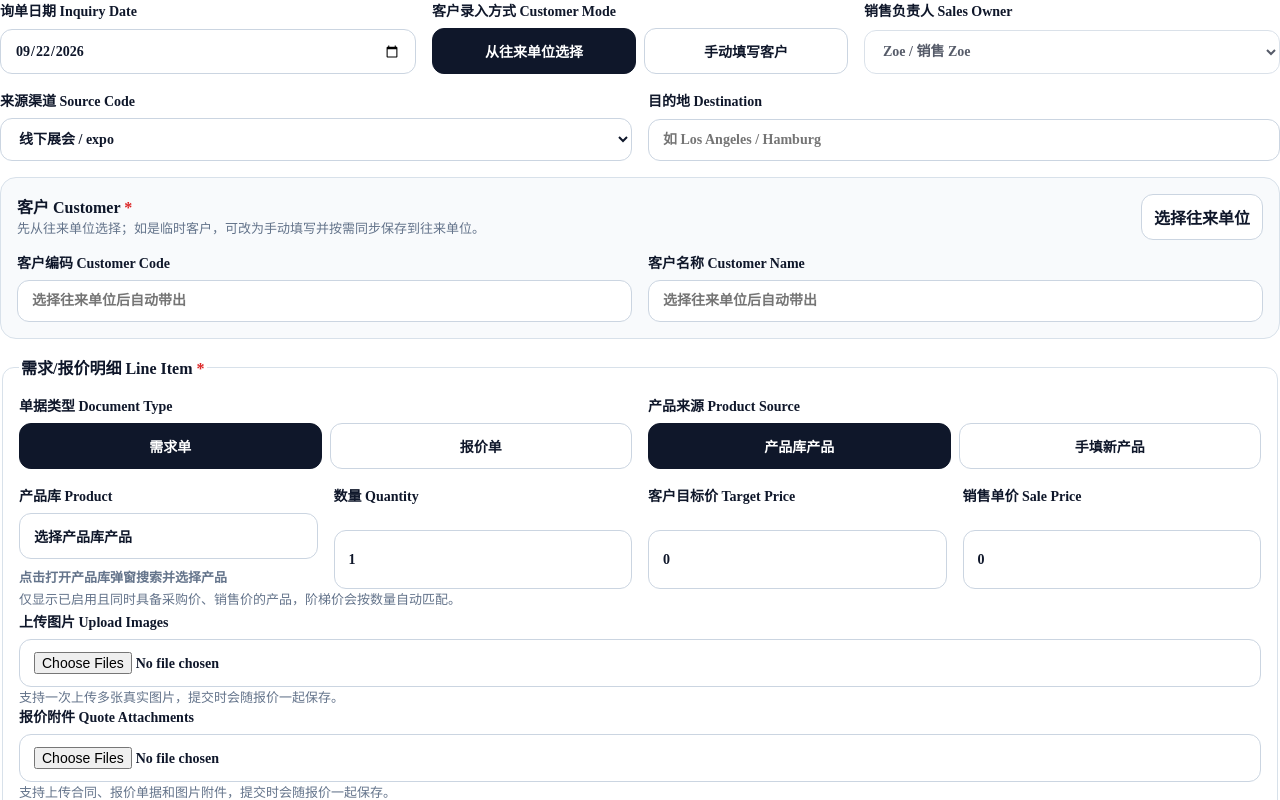
Test: formal quote create page › renders customer picker as searchable paginated dialog
This screenshot has width=1280, height=800.
Click the button "选择往来单位": click(1202, 217) [1141,194,1263,240]
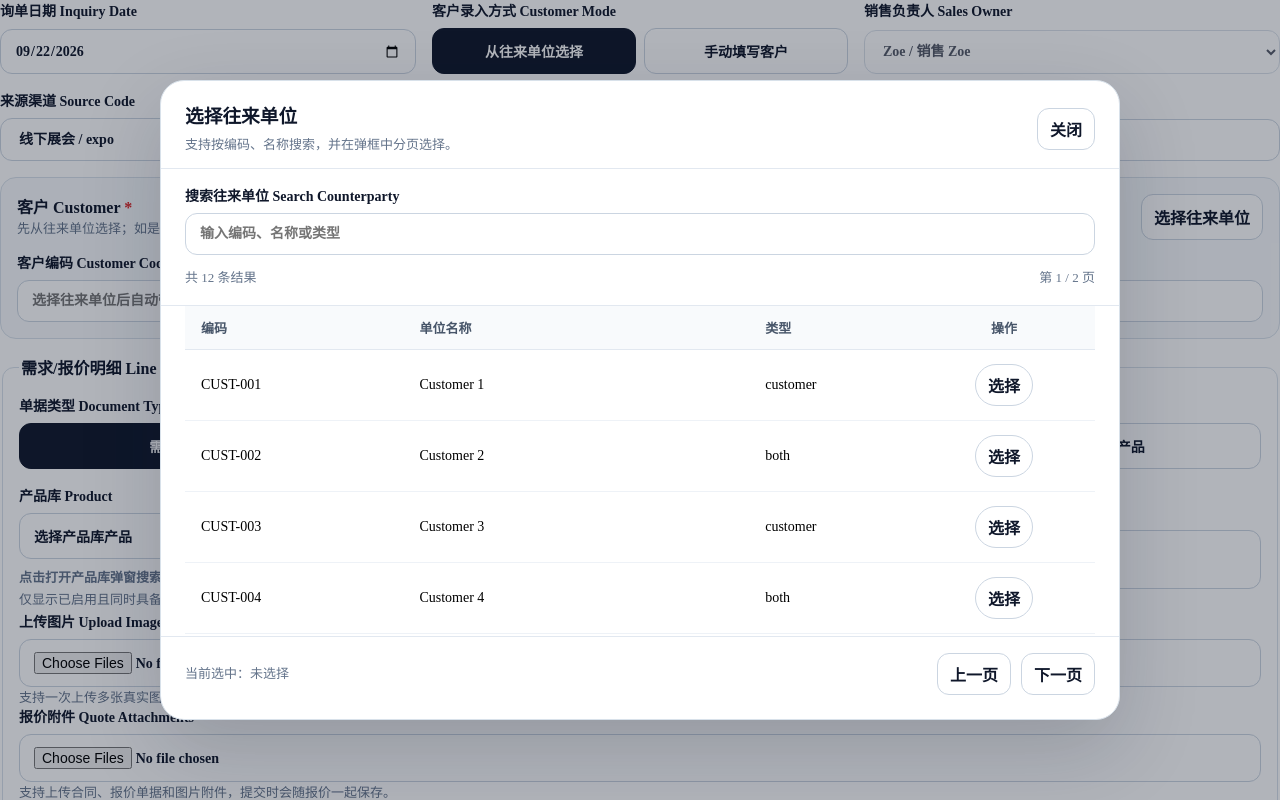
expect the heading "选择往来单位" is shown: met, box [185,106,297,127]
expect the field labelled "搜索往来单位 Search Counterparty" is shown: met, box [185,213,1095,255]
expect the text "第 1 / 2 页" is shown: met, box [1039,267,1095,289]
Click the button "下一页": click(1058, 674) [1021,653,1095,695]
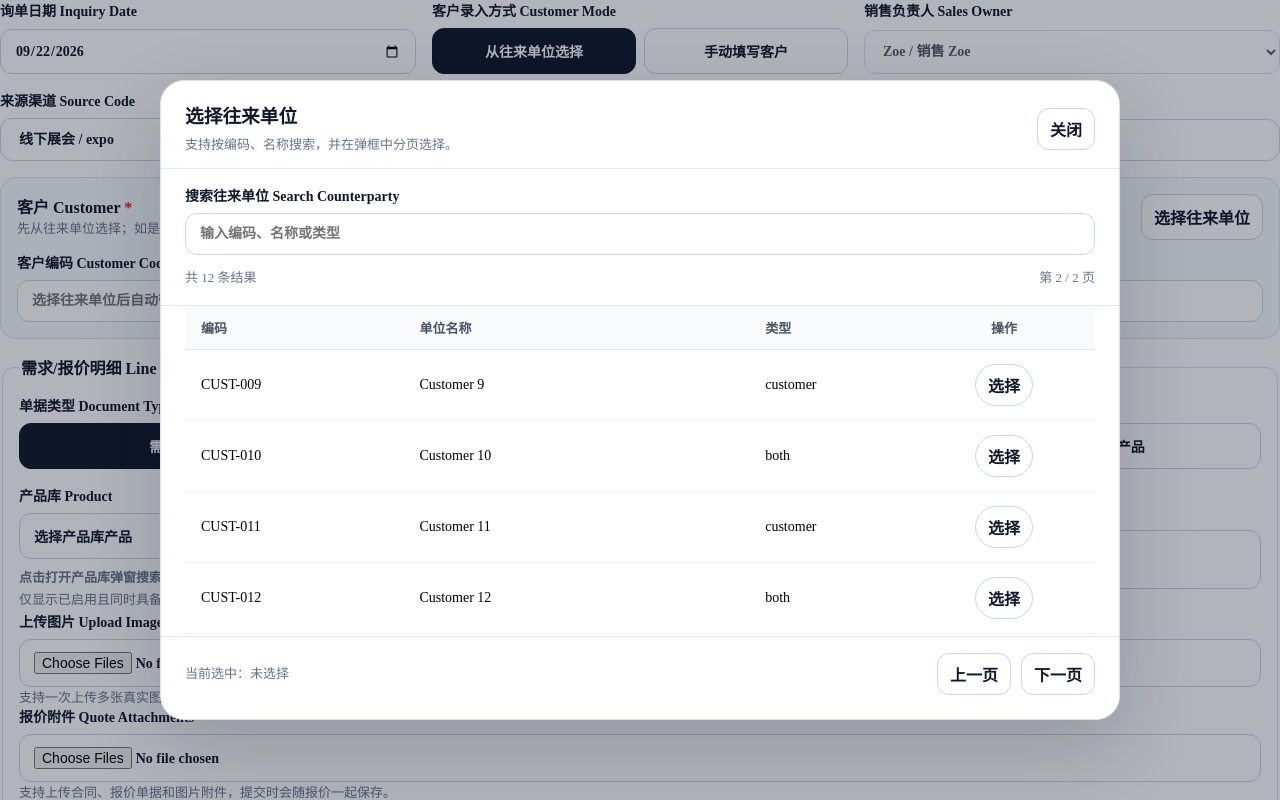
expect the text "第 2 / 2 页" is shown: met, box [1039,267,1095,289]
expect the text "CUST-009" is shown: met, box [185,350,403,421]
In the field labelled "搜索往来单位 Search Counterparty": (640, 234) [185,213,1095,255], type "Customer 12"
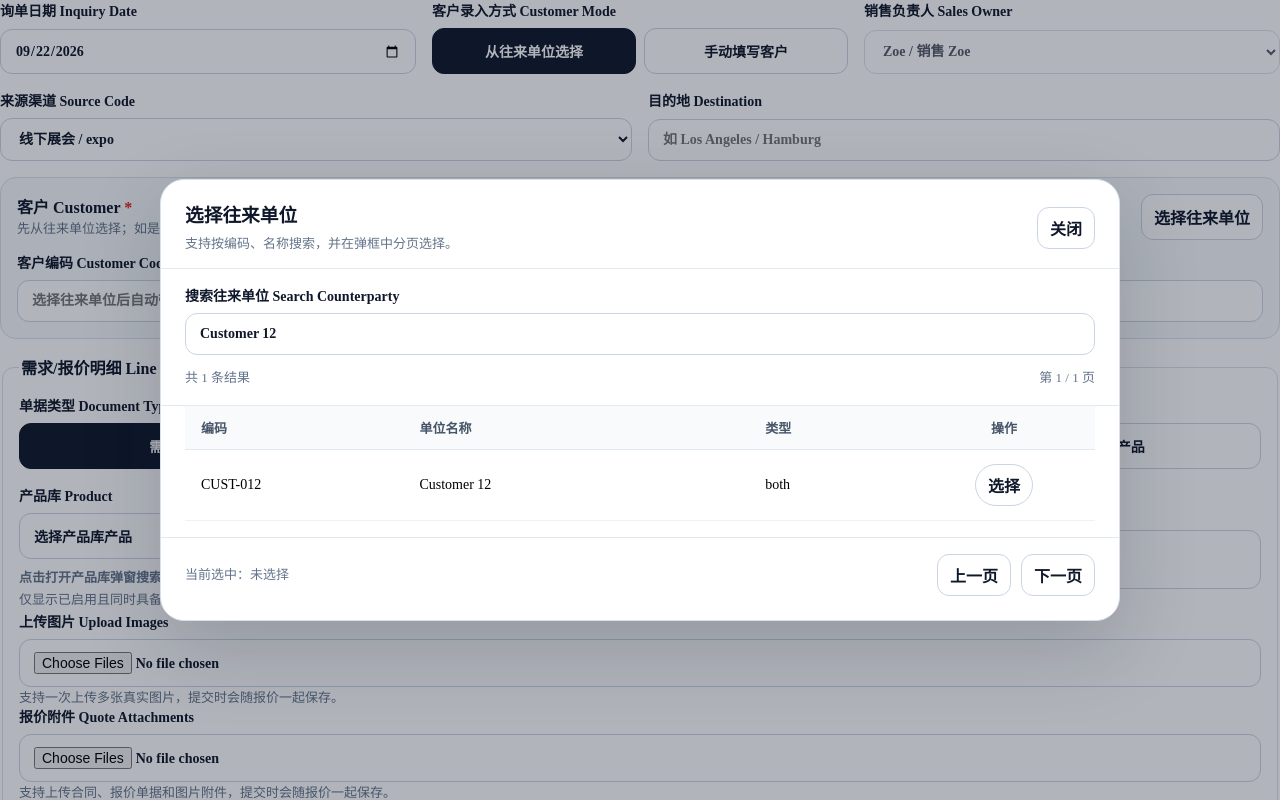
expect the text "CUST-001" is not shown: met
expect the text "CUST-012" is shown: met, box [185,449,403,520]
expect the text "第 1 / 1 页" is shown: met, box [1039,366,1095,389]
